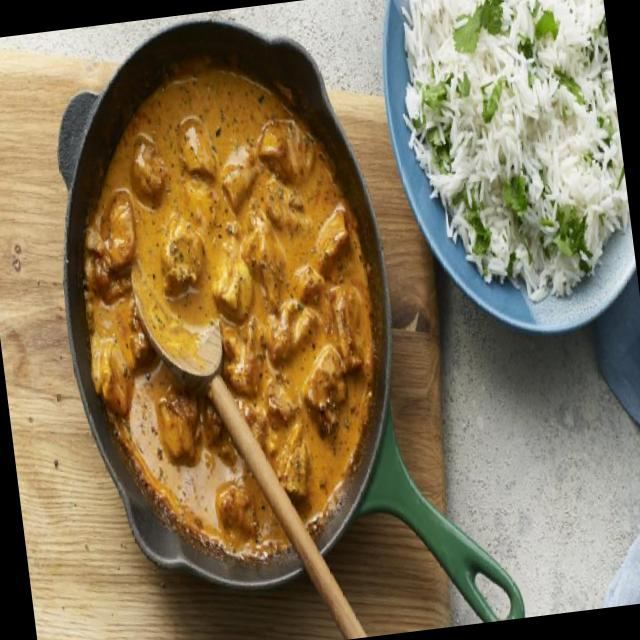chicken: (68, 69, 376, 562)
rice: (398, 0, 628, 298)
